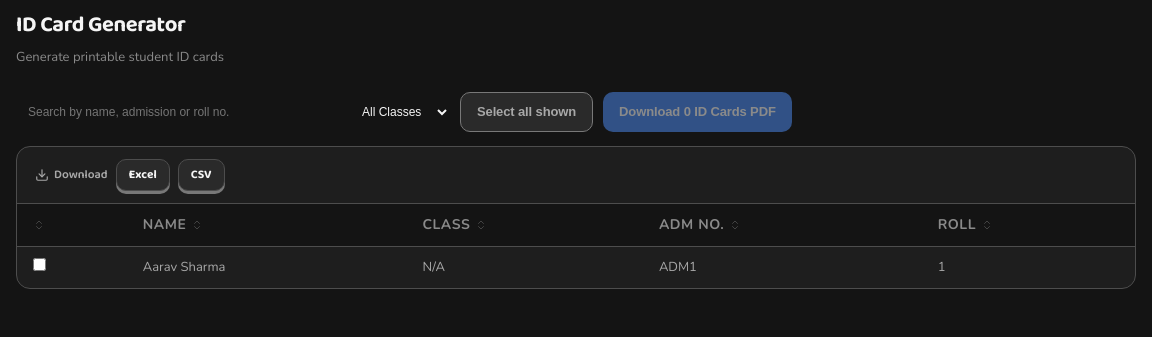
it: a refused ID-card download tells the person why, in their own words
The image size is (1152, 337).
Expected: the text "Aarav Sharma" is shown, [127, 247, 406, 288]
Click the button "Select all shown": (527, 112) [460, 92, 593, 132]
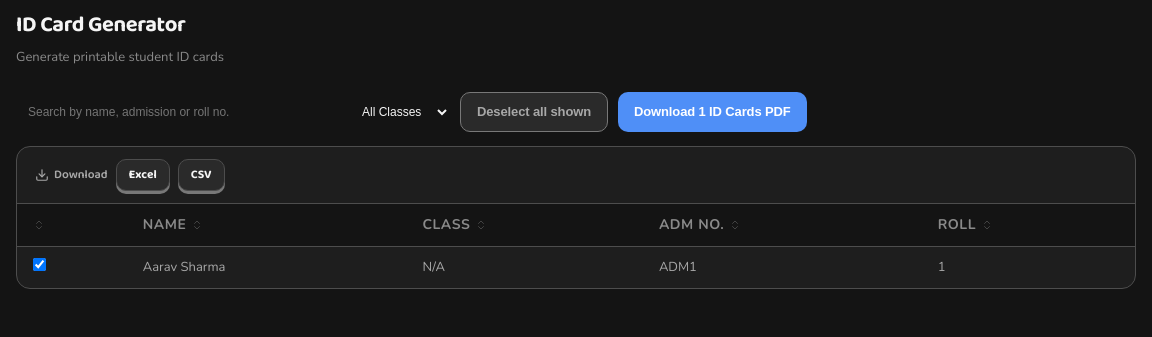
Click the button "Download 1 ID Cards PDF": (712, 112) [618, 92, 807, 132]
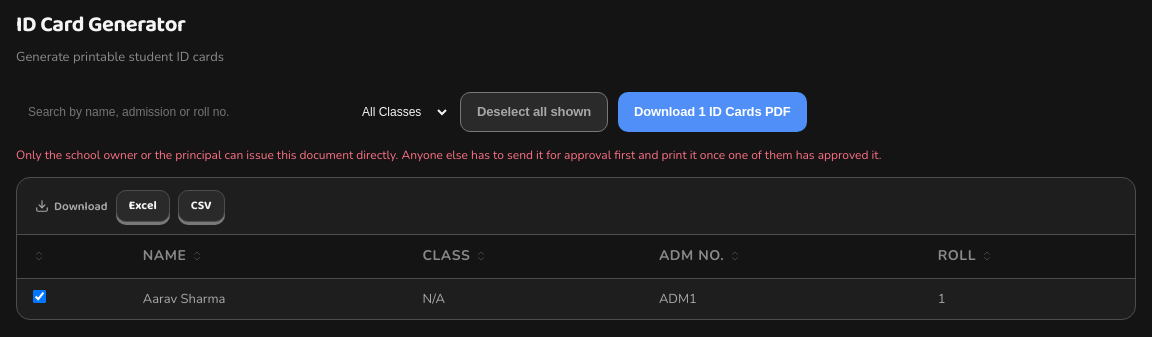
Expected: the text with test id "id-card-error" shows "school owner", [16, 147, 881, 163]
Expected: the text with test id "id-card-error" shows "principal", [16, 147, 881, 163]
Expected: the text with test id "id-card-error" shows "approval", [16, 147, 881, 163]
